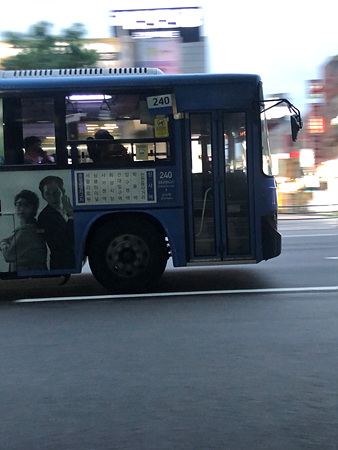entrance: (184, 105, 252, 263)
